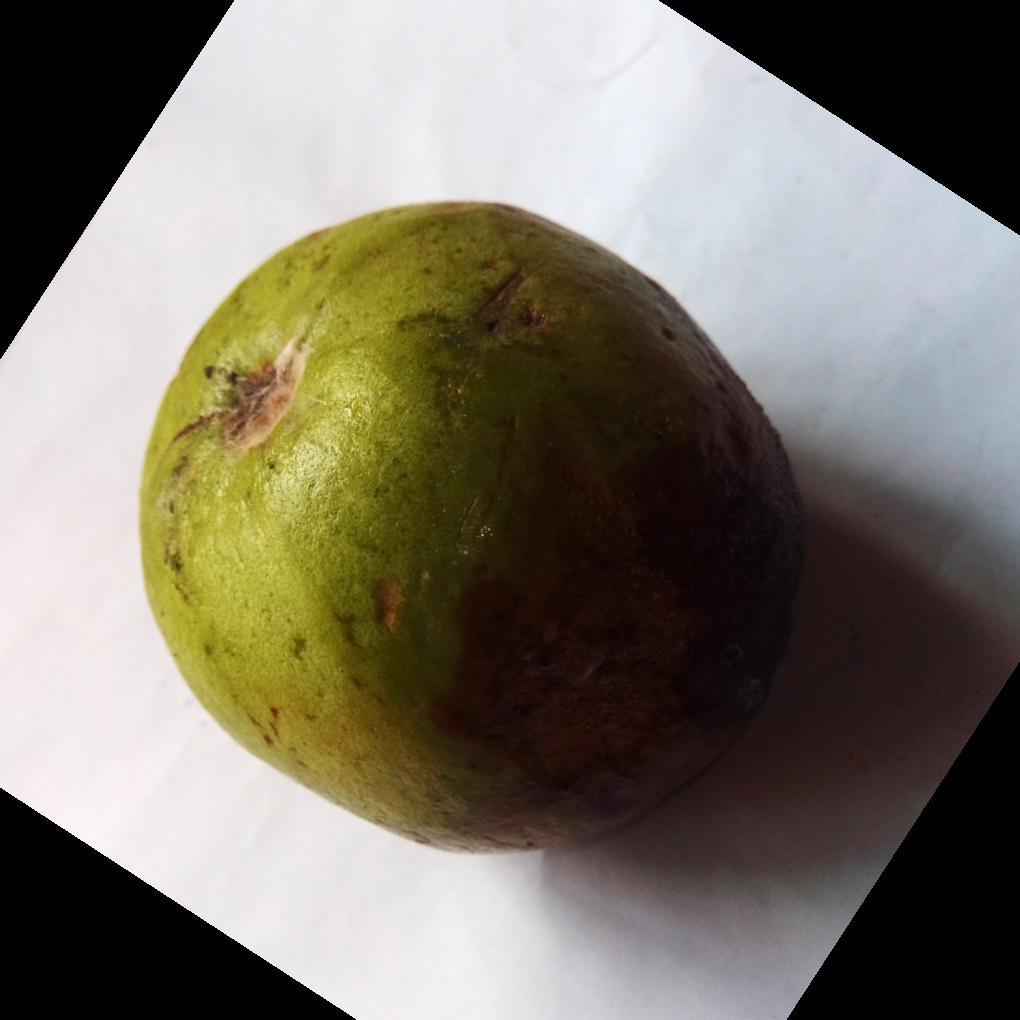FreshOrange: (135, 201, 809, 860)
